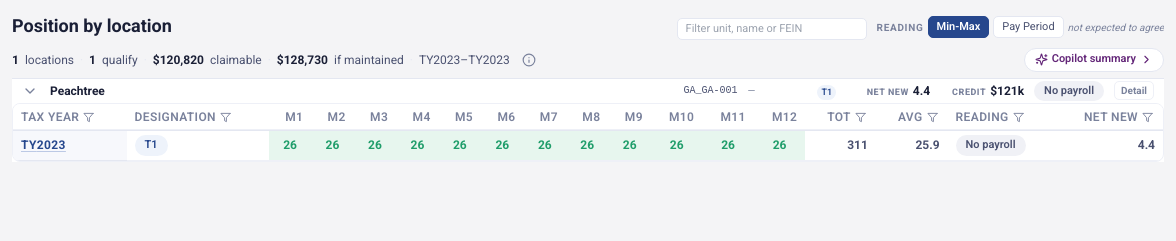
Scenario: the unit header is a row, and nothing real was lost in the collapse › keeps the plain-English reading reachable for the unit
The width and height of the screenshot is (1176, 241).
The best summary on the page. Behind the expand, never deleted.
Click the button "Detail" at (1134, 91), box [1114,81,1154,100]
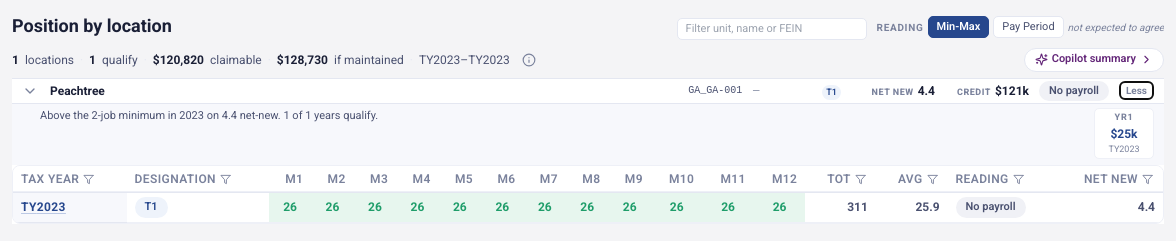
Check: the text "net-new" is shown, box [40,109,378,122]
